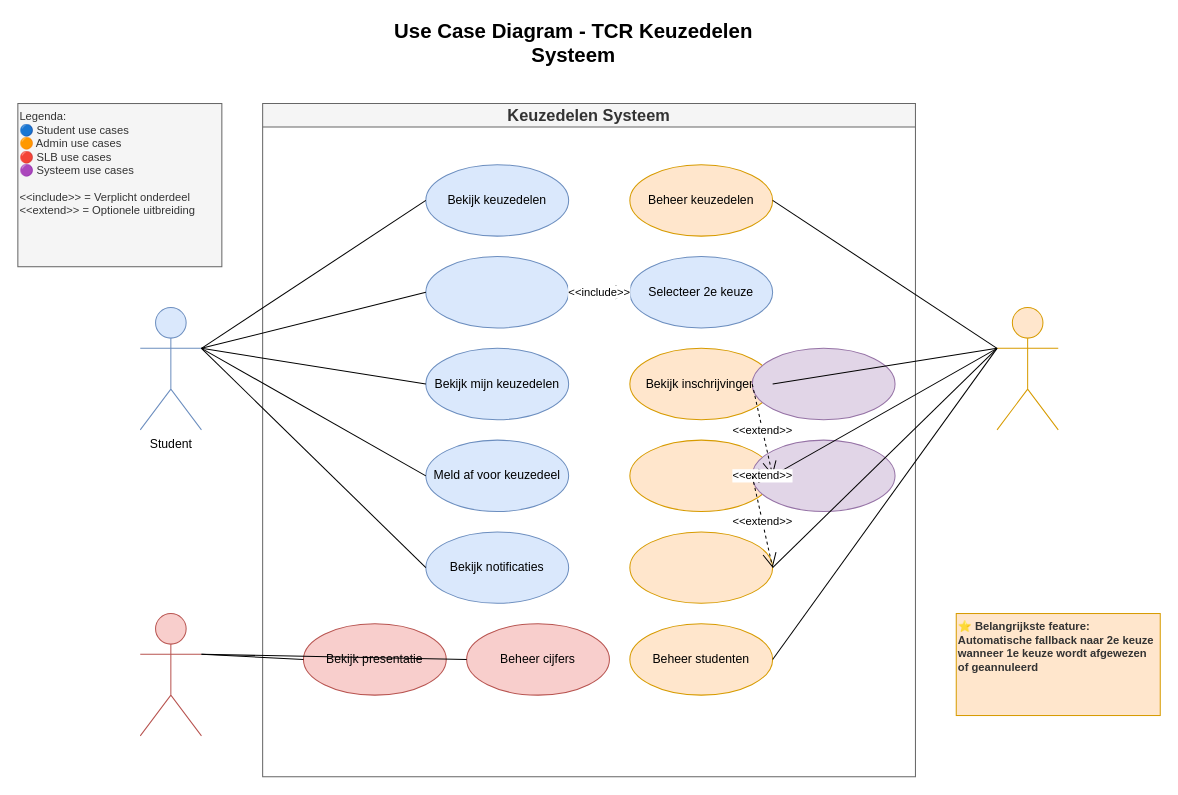
This 1178x795 diagram has some shape labels left out. The box of each missing label's shape, as (x1, y1, x2, y2) in pixels:
Admin: (996, 307, 1058, 430)
Annuleer keuzedeel: (629, 531, 773, 603)
Automatische fallback naar 2e keuze: (751, 439, 895, 512)
Keur aanmelding goed/af: (629, 439, 773, 512)
Meld aan voor keuzedeel: (425, 256, 569, 328)
SLB Docent: (139, 613, 201, 736)
Verstuur notificatie: (751, 347, 895, 420)
